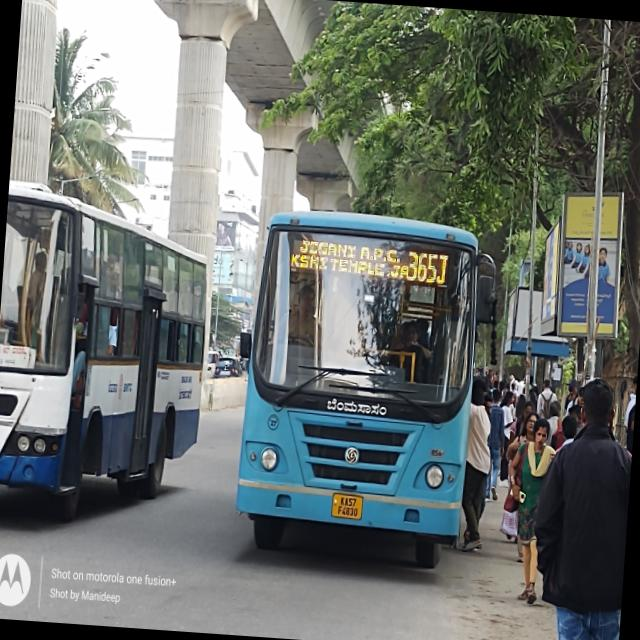bus: (225, 190, 490, 576), (0, 169, 222, 535)
display: (291, 237, 448, 286)
dnumber: (404, 249, 450, 285)
